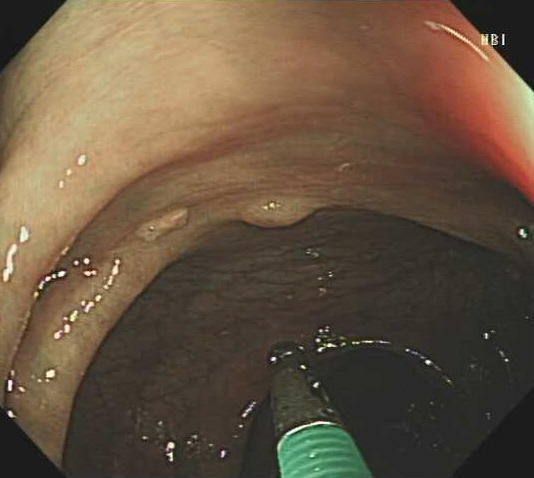adenoma: (228, 189, 328, 230), (132, 205, 190, 241)
